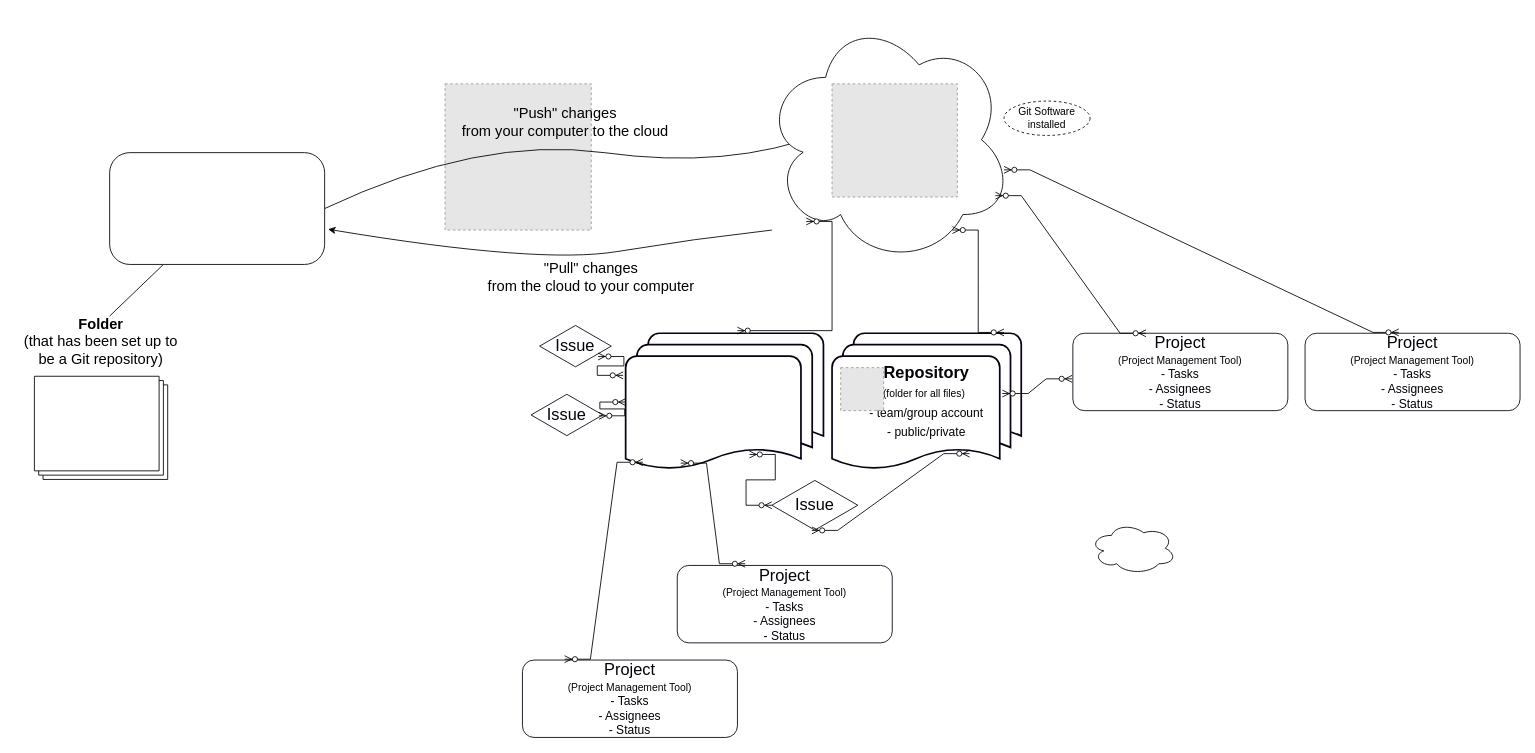
The diagram is 1535 pixels wide and 753 high, and some of its shapes have lost their labels. Grey dashed boxes stand in for pictures. The shapes that lost their labels are listed below. From the top down, each one's centre as x and y in pixels, then its label:
pixel 217 208: Local Computer
pixel 724 401: Repository (folder for all files) - personal account - public/private
pixel 101 427: files (data or code or text)
pixel 1132 548: Cloud
